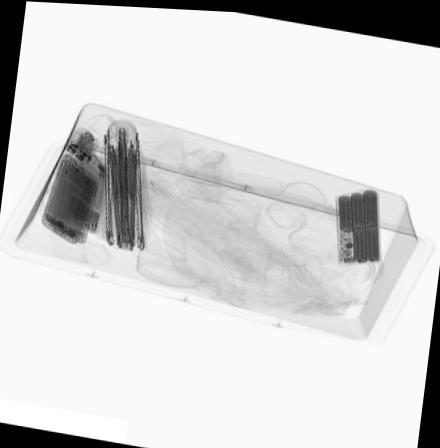Powerbank: (334, 184, 383, 258)
